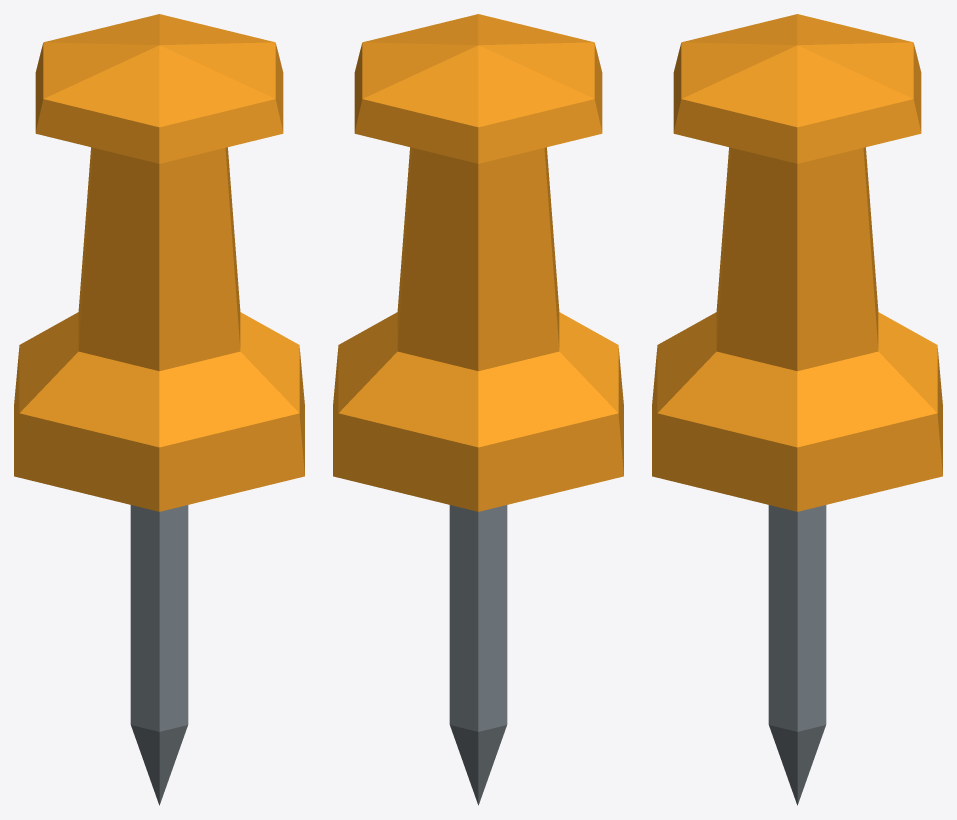
Rendered from SM_Icon_Pin_01.fbx.
3 views of the same model, side by side, from view 1: azimuth 30°, elevation 25°; view 2: azimuth 150°, elevation 25°; view 3: azimuth 270°, elevation 25° (orthographic).
Parts seen in each view (by area): view 1: SM_Icon_Pin_01; view 2: SM_Icon_Pin_01; view 3: SM_Icon_Pin_01.
Part boxes in pixels (x1,y1,x2,y2): SM_Icon_Pin_01: [14, 14, 304, 805]; SM_Icon_Pin_01: [333, 14, 623, 805]; SM_Icon_Pin_01: [652, 14, 942, 805].
Bounding box in the file's own units: 23.43 × 58.52 × 20.29.
